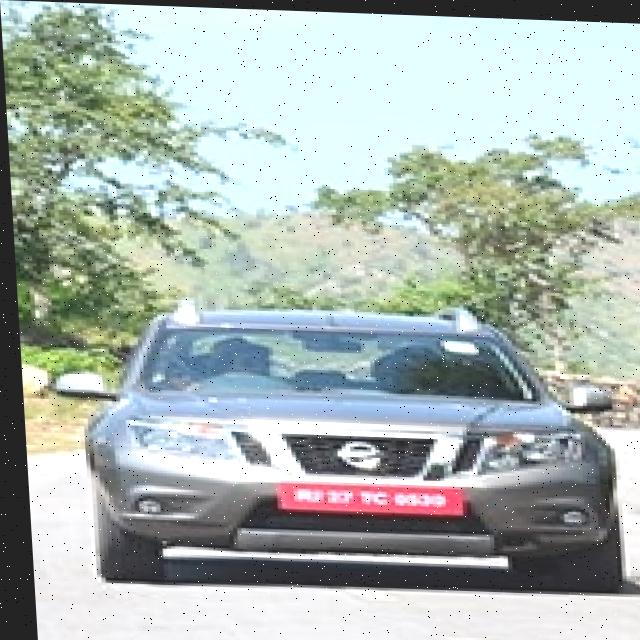plate: (273, 480, 463, 510)
